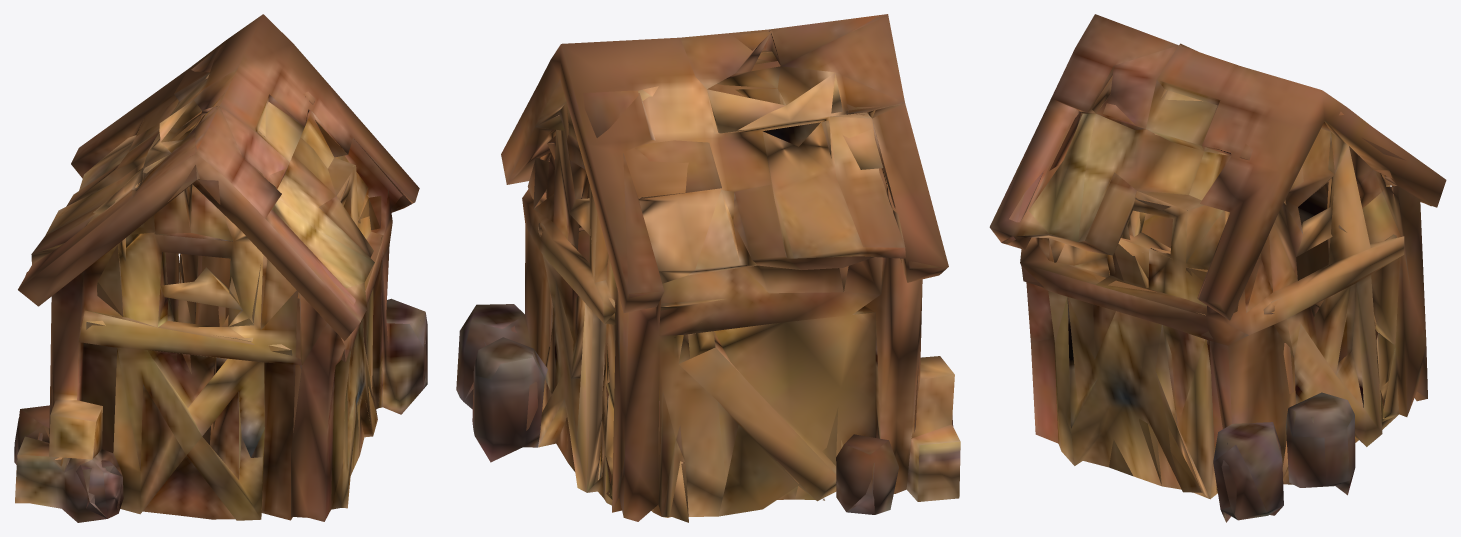
The model's file is warehouse.glb.
3 views of the same model, side by side, from view 1: azimuth 30°, elevation 25°; view 2: azimuth 150°, elevation 25°; view 3: azimuth 270°, elevation 25° (orthographic). The views are drawn at different scales.
Visible parts, largest first — view 1: RETOPO; view 2: RETOPO; view 3: RETOPO.
Part boxes in pixels (left/top/right/bottom): RETOPO: left=14, top=14, right=427, bottom=522; RETOPO: left=456, top=14, right=960, bottom=522; RETOPO: left=989, top=14, right=1446, bottom=522.
Bounding box in the file's own units: 0.9068 × 0.7923 × 0.8305.
1 material, 1 textured.
